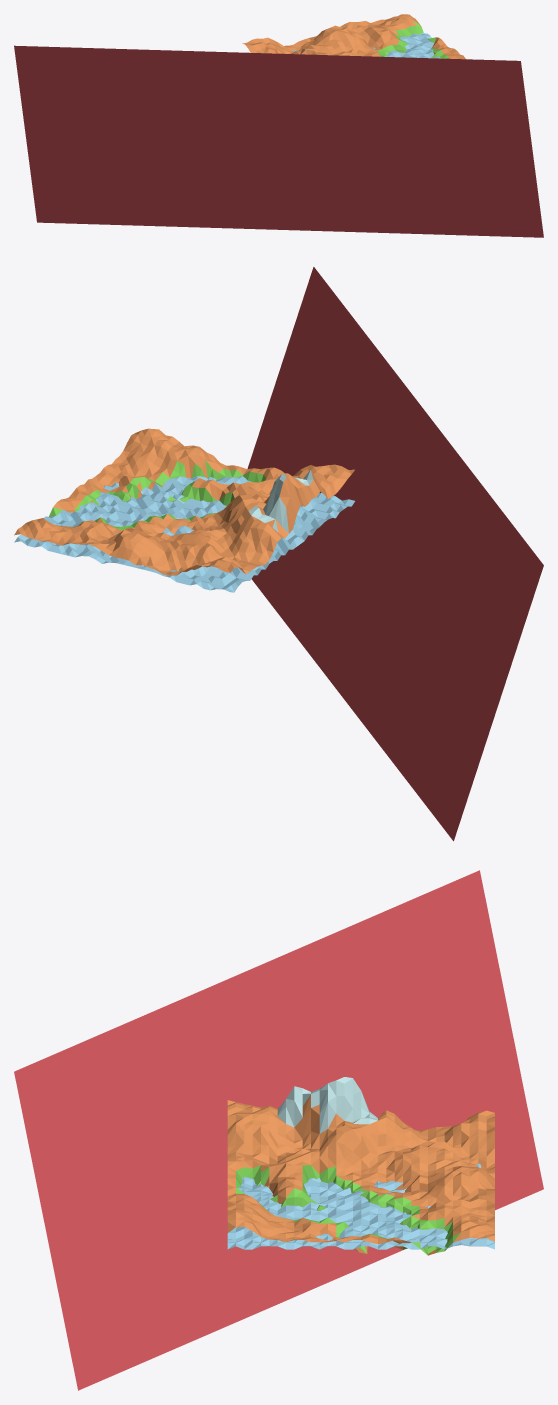
Rendered from LowPoly.glb.
3 views of the same model, one above another, from view 1: azimuth 30°, elevation 25°; view 2: azimuth 150°, elevation 25°; view 3: azimuth 270°, elevation 25° (orthographic). The views are drawn at different scales.
Parts seen in each view (by area): view 1: Plane.001, 평면, Plane; view 2: Plane.001, 평면, Plane; view 3: Plane.001, 평면, Plane.
Part boxes in pixels (<box>): Plane.001: <box>14,45,543,237</box>; 평면: <box>242,14,465,59</box>; Plane: <box>293,32,440,58</box>; Plane.001: <box>247,267,543,841</box>; 평면: <box>14,428,354,575</box>; Plane: <box>14,476,354,592</box>; Plane.001: <box>14,870,543,1390</box>; 평면: <box>227,1077,494,1255</box>; Plane: <box>227,1163,494,1249</box>.
Size of the model in its own units: 4.83 by 2.64 by 3.97.
